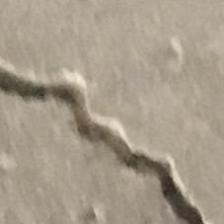Crack: (0, 60, 213, 224)
